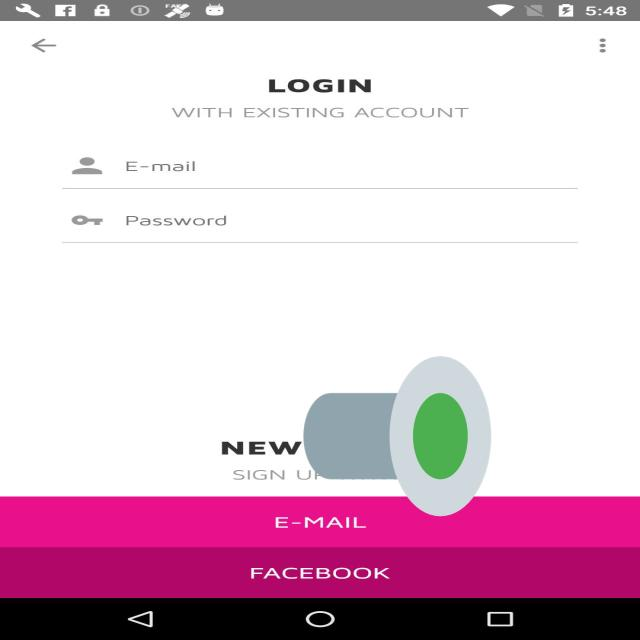social proof: (304, 288, 492, 584)
